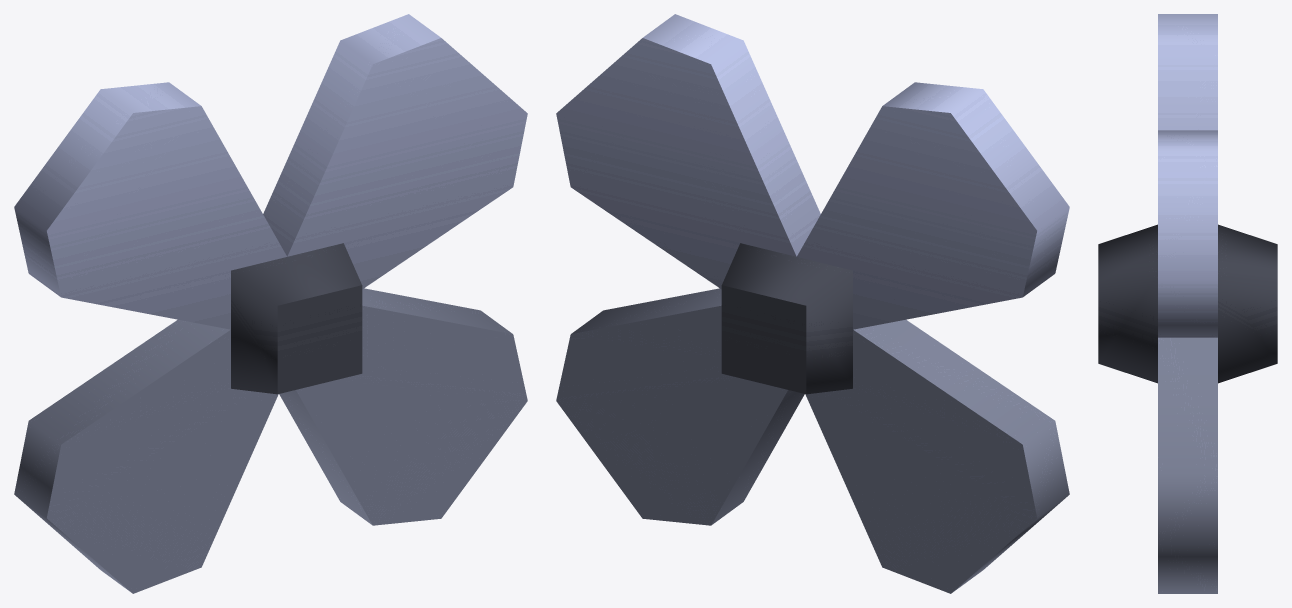
The model's file is fan.glb.
3 renders of one model, left to right at view 1: azimuth 30°, elevation 25°; view 2: azimuth 150°, elevation 25°; view 3: azimuth 270°, elevation 25°, orthographic. The views are drawn at different scales.
Visible parts, largest first — view 1: fan; view 2: fan; view 3: fan.
Part boxes in pixels (bbox=[...]): fan: bbox=[14, 14, 527, 593]; fan: bbox=[556, 14, 1069, 593]; fan: bbox=[1098, 14, 1277, 593].
Bounding box in the file's own units: 0.9805 × 0.9366 × 0.345.
1 material, 1 textured.
